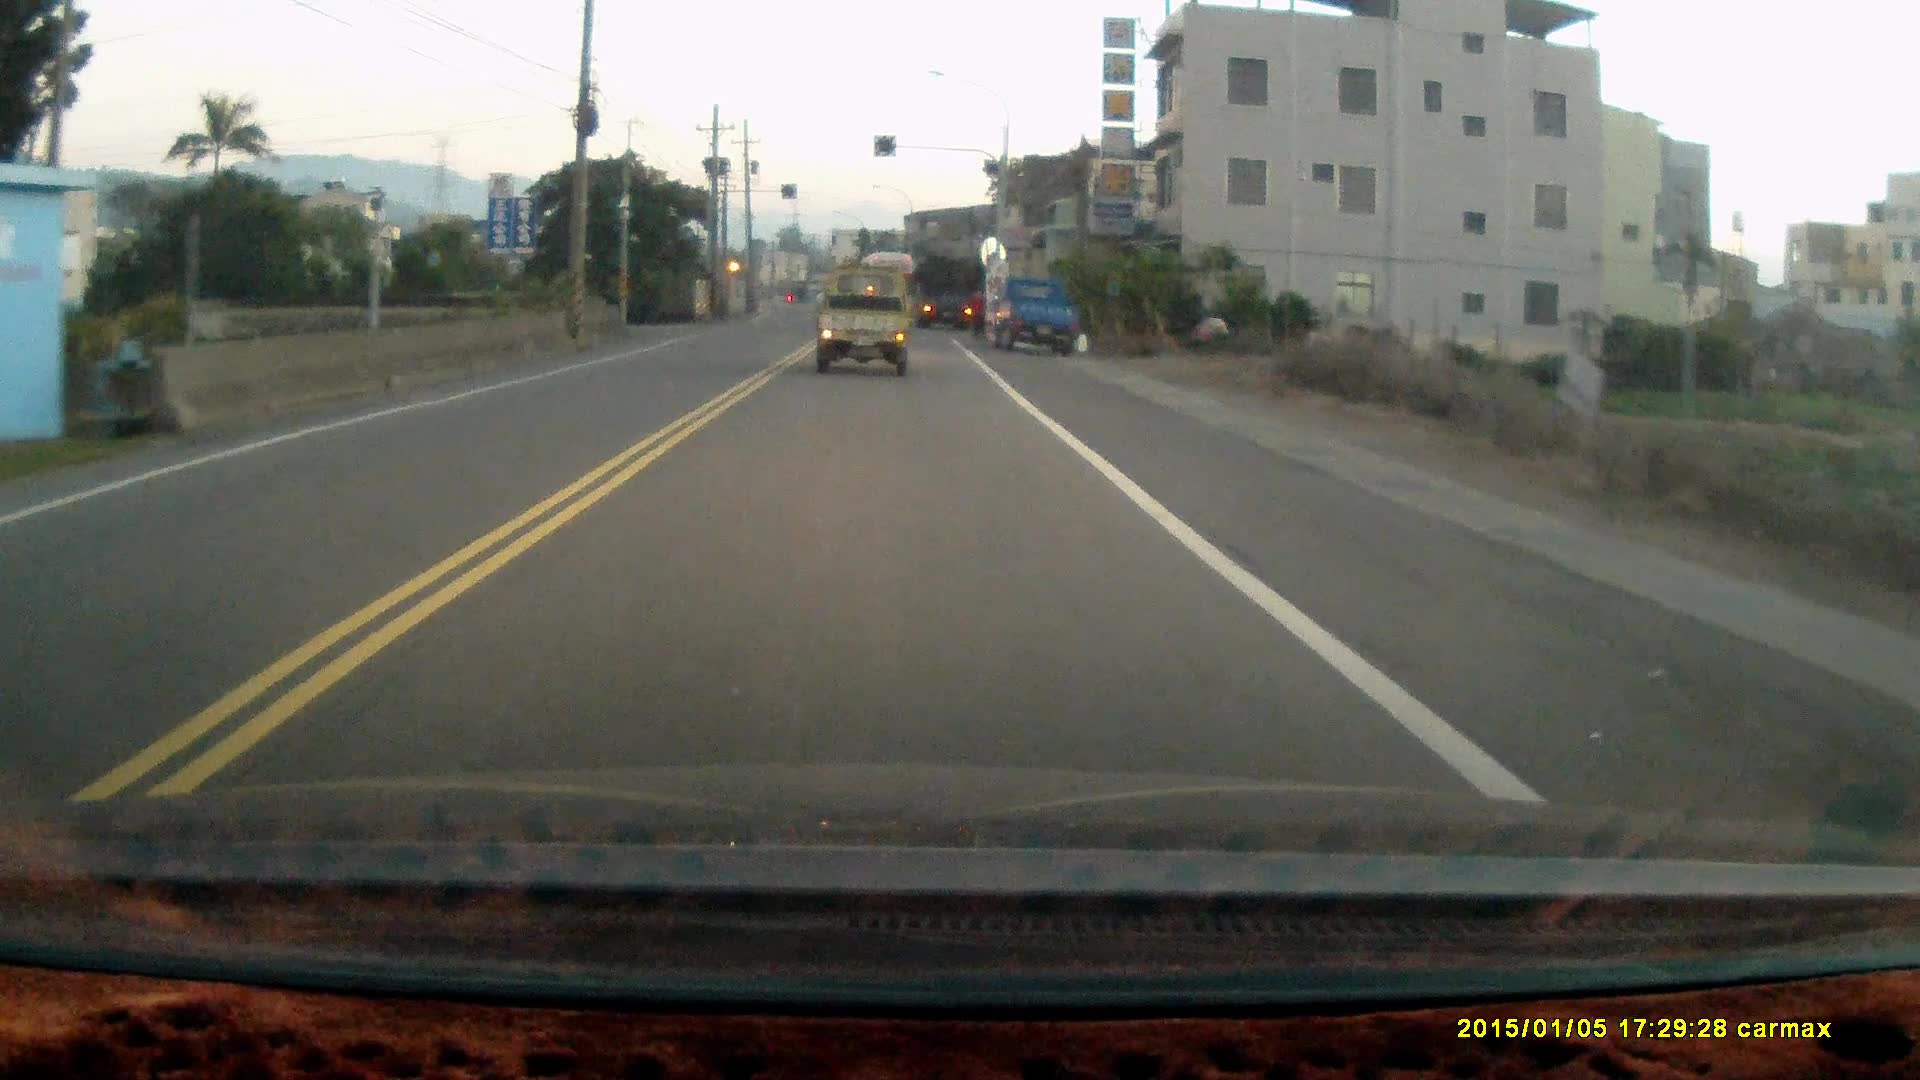vehicle: (812, 270, 916, 386), (986, 273, 1095, 357), (916, 255, 989, 335)
